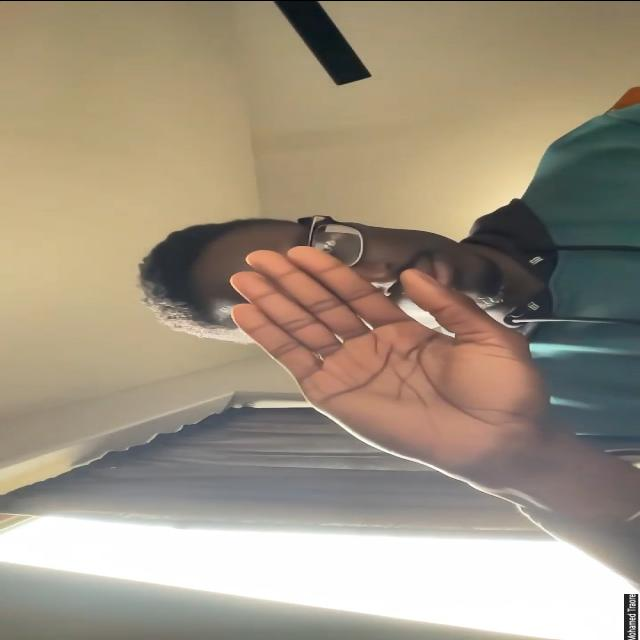Paper: (228, 243, 546, 481)
